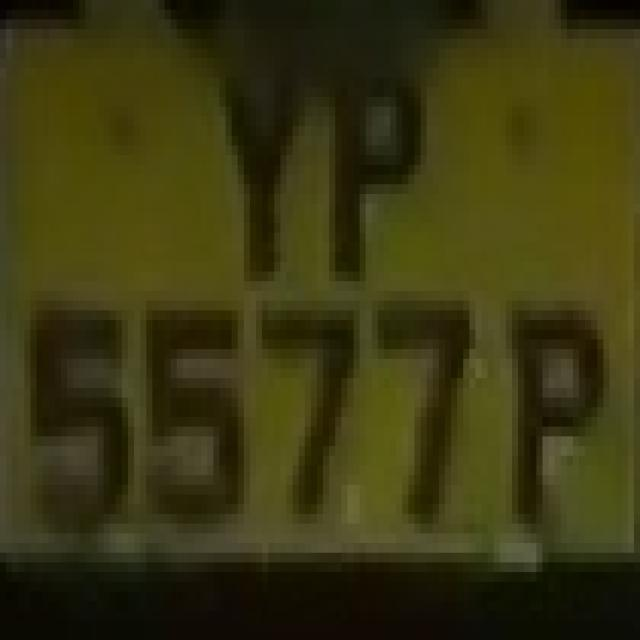5: (122, 252, 250, 543), (6, 282, 128, 562)
7: (348, 252, 476, 533), (244, 272, 372, 552)
P: (506, 272, 609, 572), (311, 29, 427, 281)
Y: (201, 19, 335, 291)
